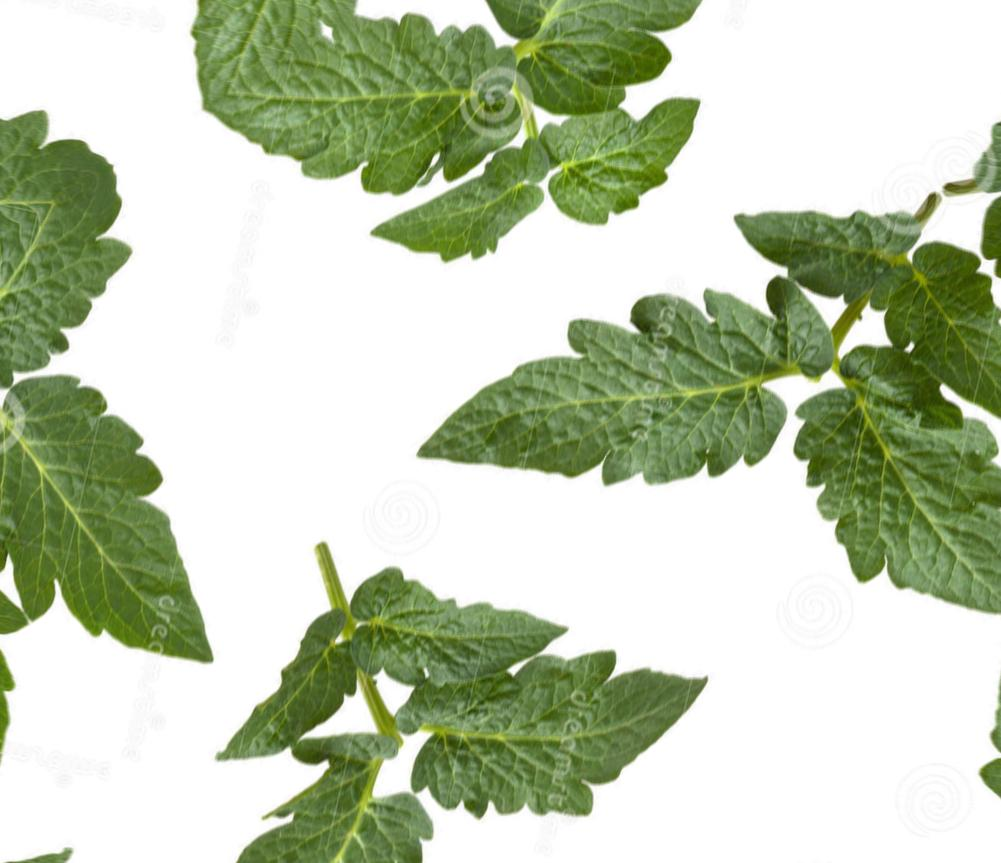Tomato leaf: (356, 189, 860, 639), (368, 531, 773, 863), (0, 280, 273, 745), (161, 0, 548, 310), (731, 304, 1001, 694), (439, 0, 823, 164), (168, 715, 509, 863)
